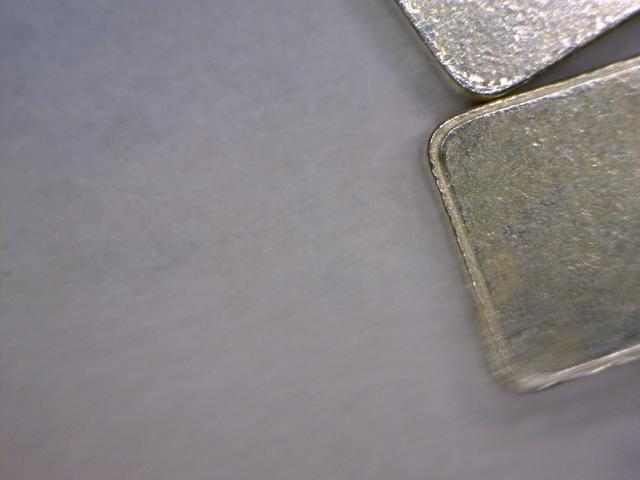nok: (422, 51, 640, 391)
